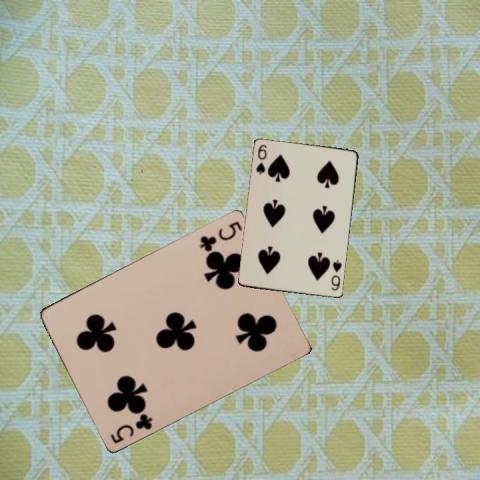5c: (107, 410, 154, 445), (197, 218, 244, 252)
6s: (328, 257, 343, 292), (253, 142, 268, 176)
